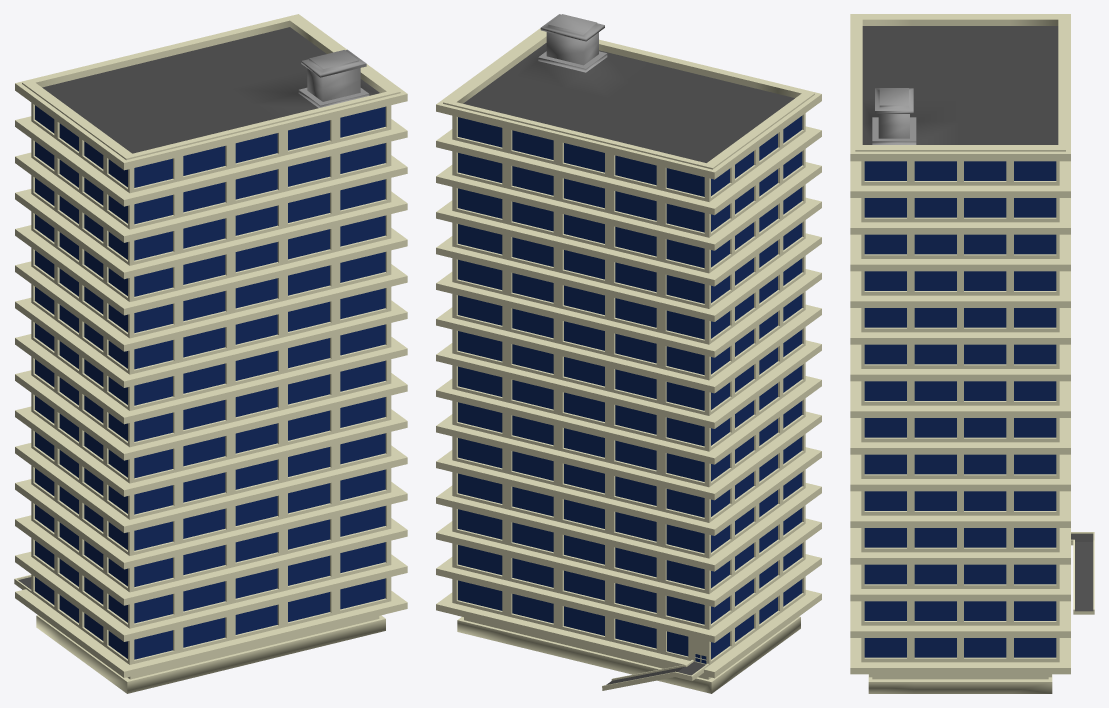
The model's file is Building1.fbx.
3 views of the same model, side by side, from view 1: azimuth 30°, elevation 25°; view 2: azimuth 150°, elevation 25°; view 3: azimuth 270°, elevation 25° (orthographic). The views are drawn at different scales.
Parts seen in each view (by area): view 1: Building; view 2: Building; view 3: Building.
Boxes of the visible parts, x1,y1,x2,y2 form: Building: [14, 14, 407, 693]; Building: [436, 14, 821, 693]; Building: [850, 14, 1094, 693].
Size of the model in its own units: 3240 by 6280 by 2395.
